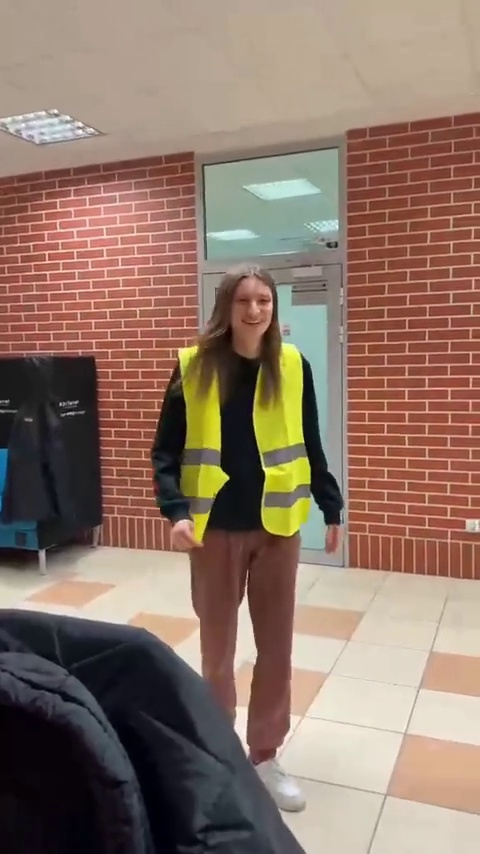vest: (147, 258, 345, 809)
